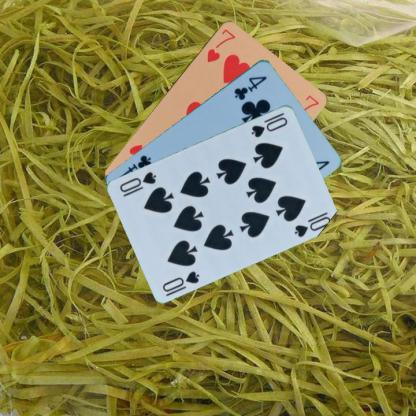10s: (160, 267, 201, 293), (248, 113, 289, 138)
4c: (231, 72, 269, 102)
7h: (204, 26, 237, 63)
